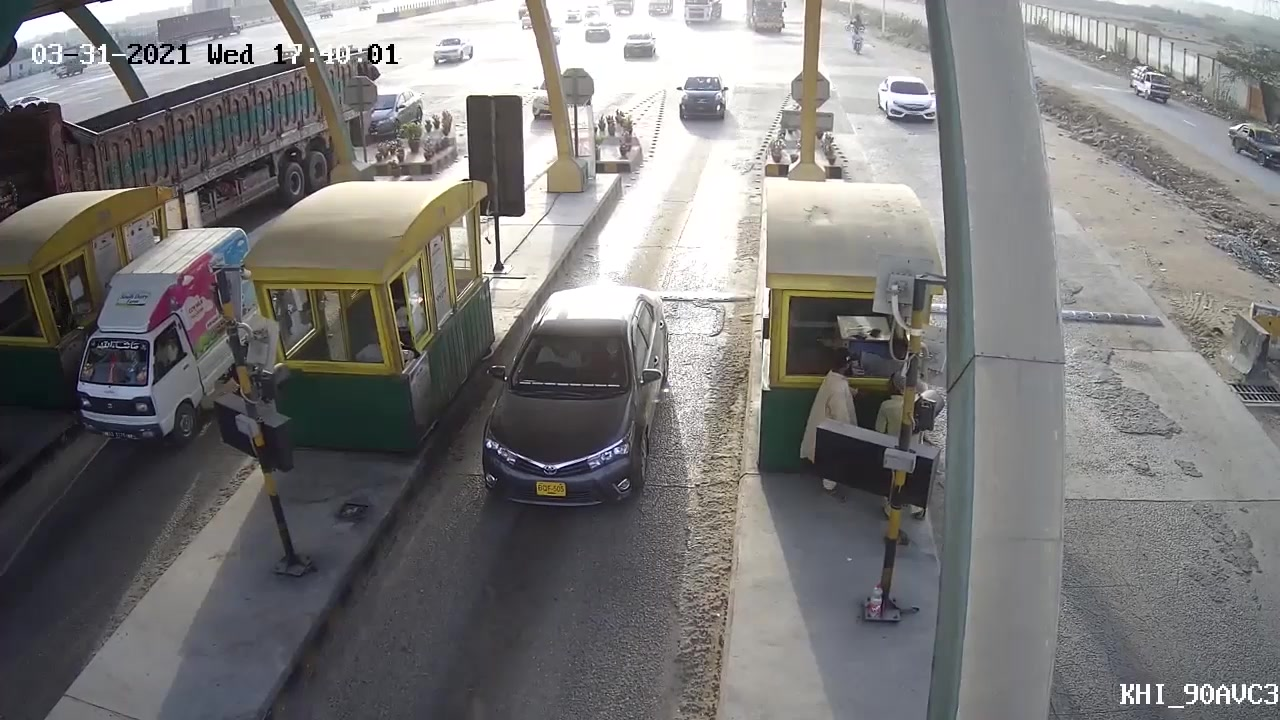F1: (478, 280, 672, 512)
